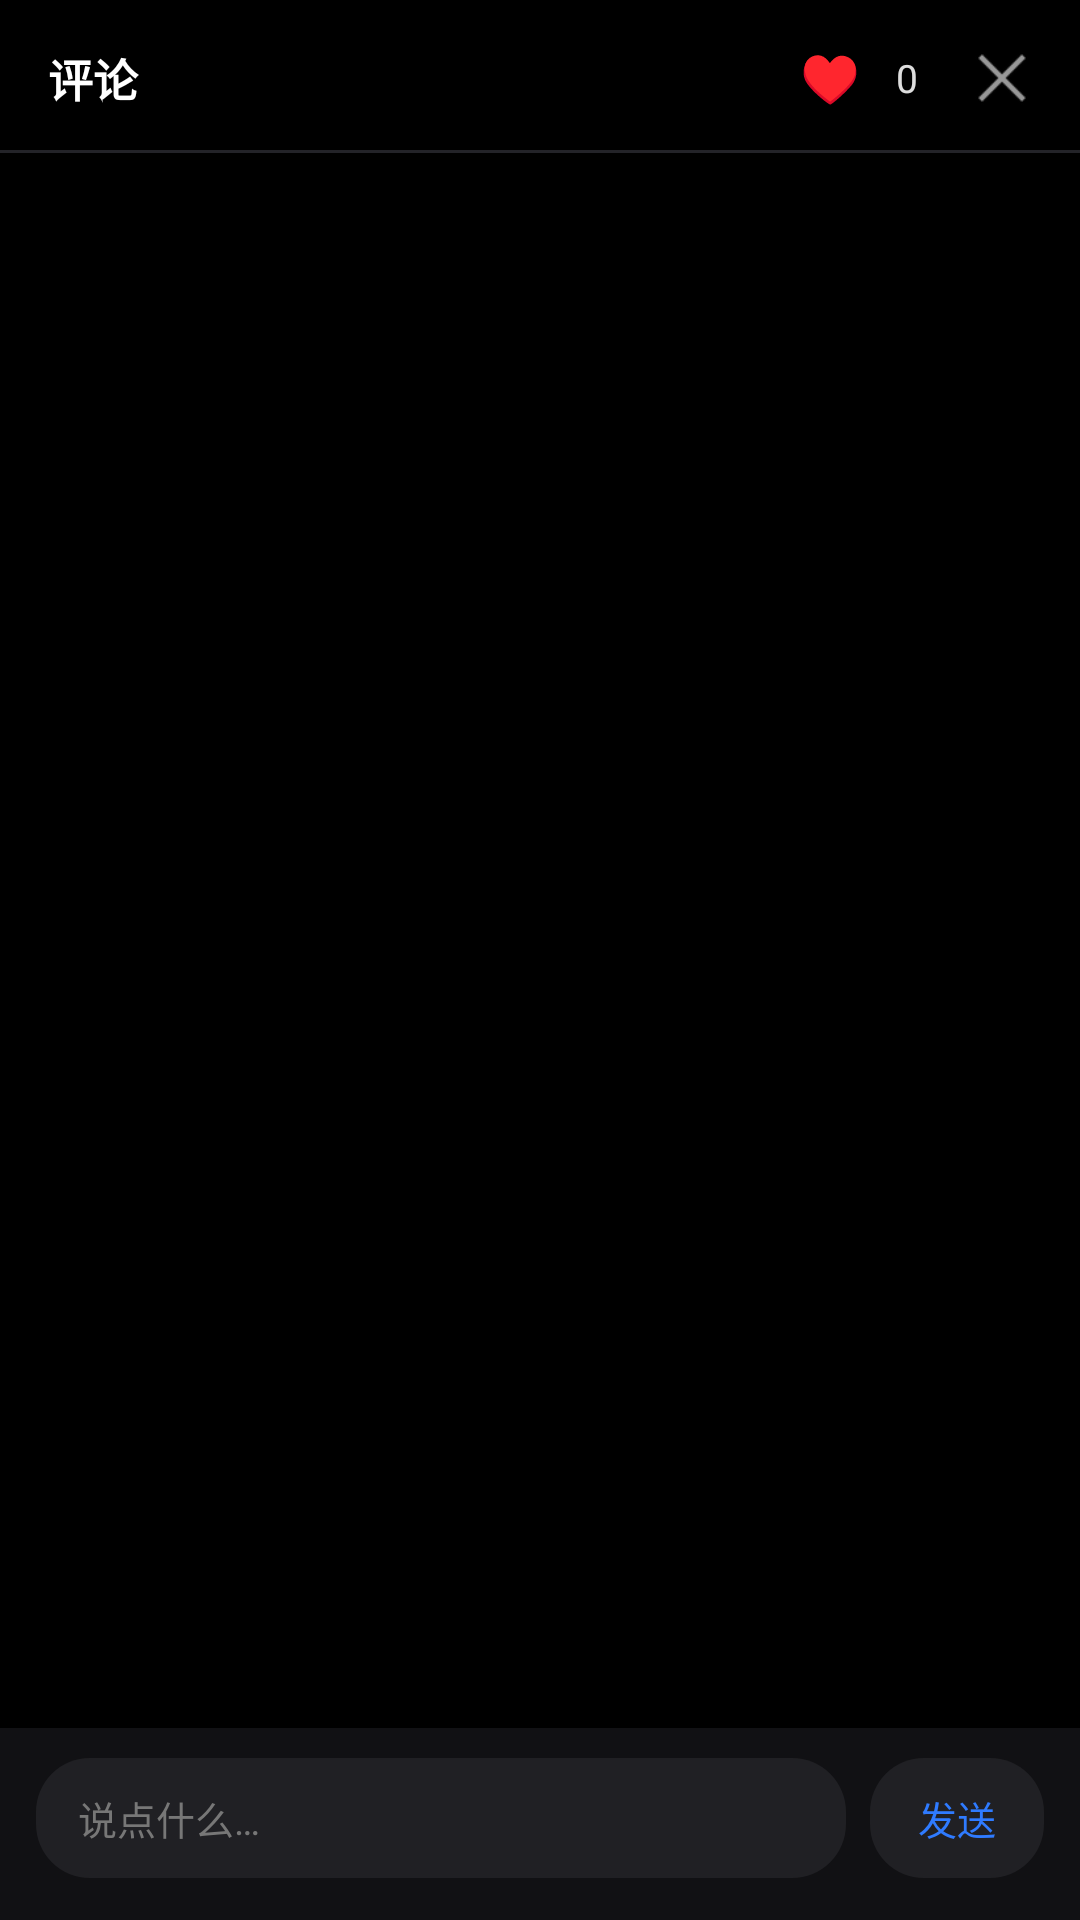

Screen size 1080×1920. Icon name, then its center in pixels as [x,y]:
关闭: [1002,78]
